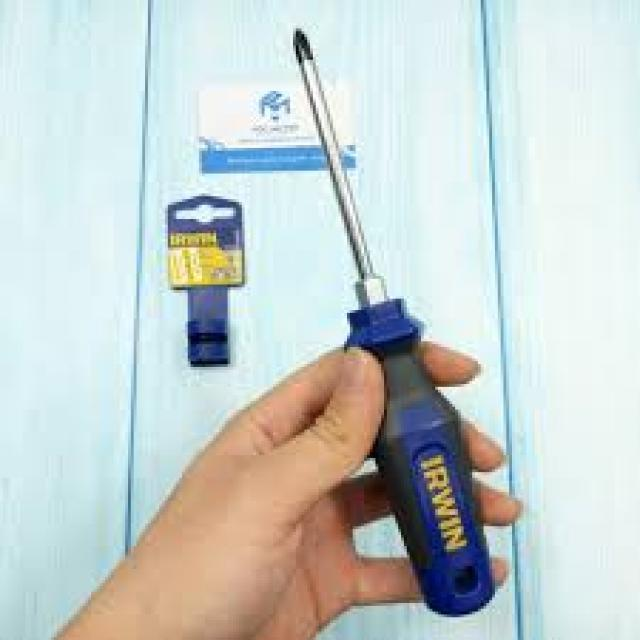screwdriver: (288, 24, 500, 619)
